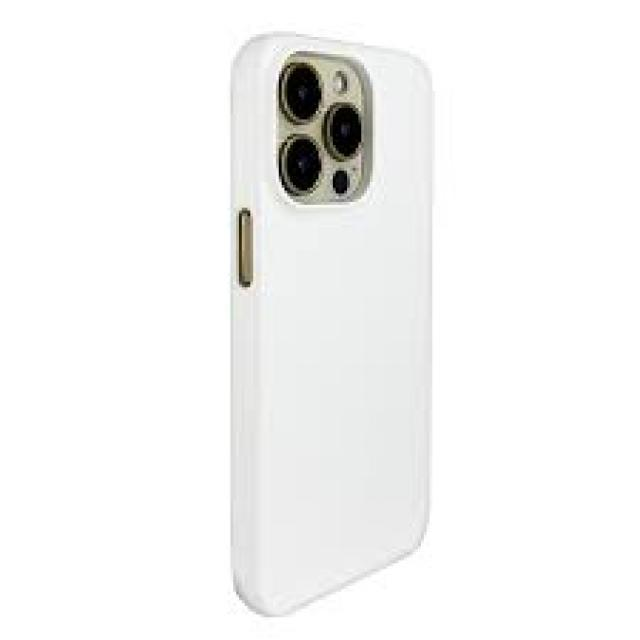lens: (277, 51, 372, 203)
phone: (221, 25, 439, 621)
